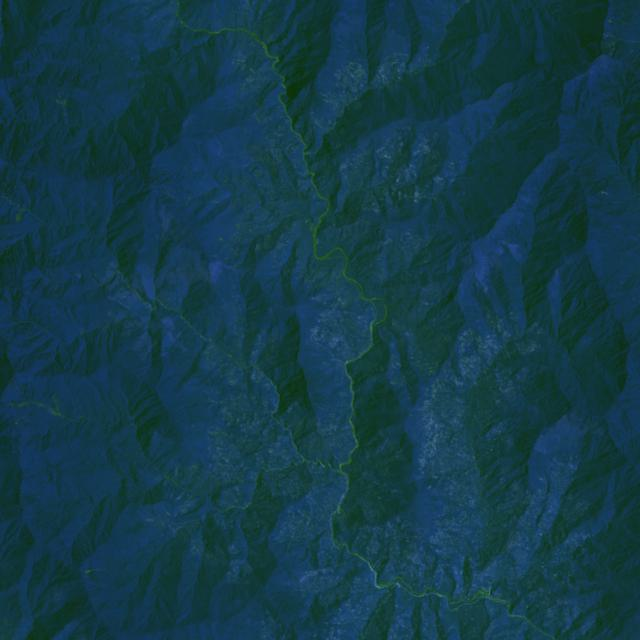landslides: (9, 401, 80, 423), (602, 31, 640, 46), (57, 99, 70, 122), (164, 186, 183, 199), (53, 394, 61, 413), (15, 208, 25, 222), (15, 415, 27, 424), (85, 569, 106, 574)
